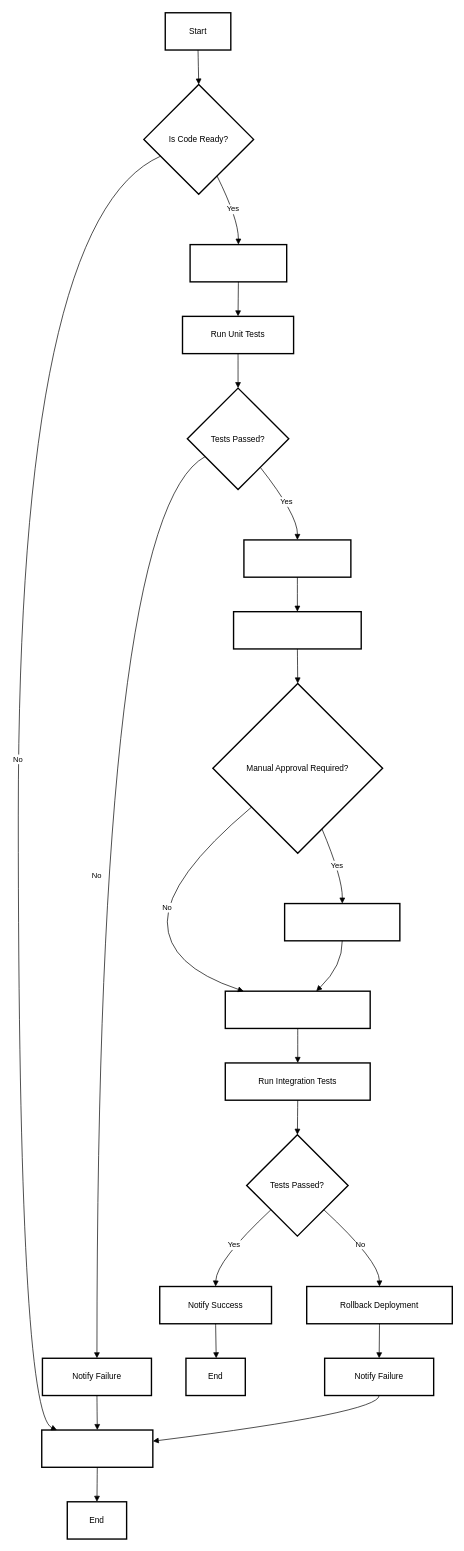
Image size: 464x1551. Some labels were removed from this diagram. The centre of each missing label's shape, as x and y in pixels:
Abort Pipeline: the point at 97,1448
Await Approval: the point at 342,922
Build Artifact: the point at 297,558
Build Stage: the point at 238,263
Deploy to Production: the point at 297,1009
Deploy to Staging: the point at 297,630
